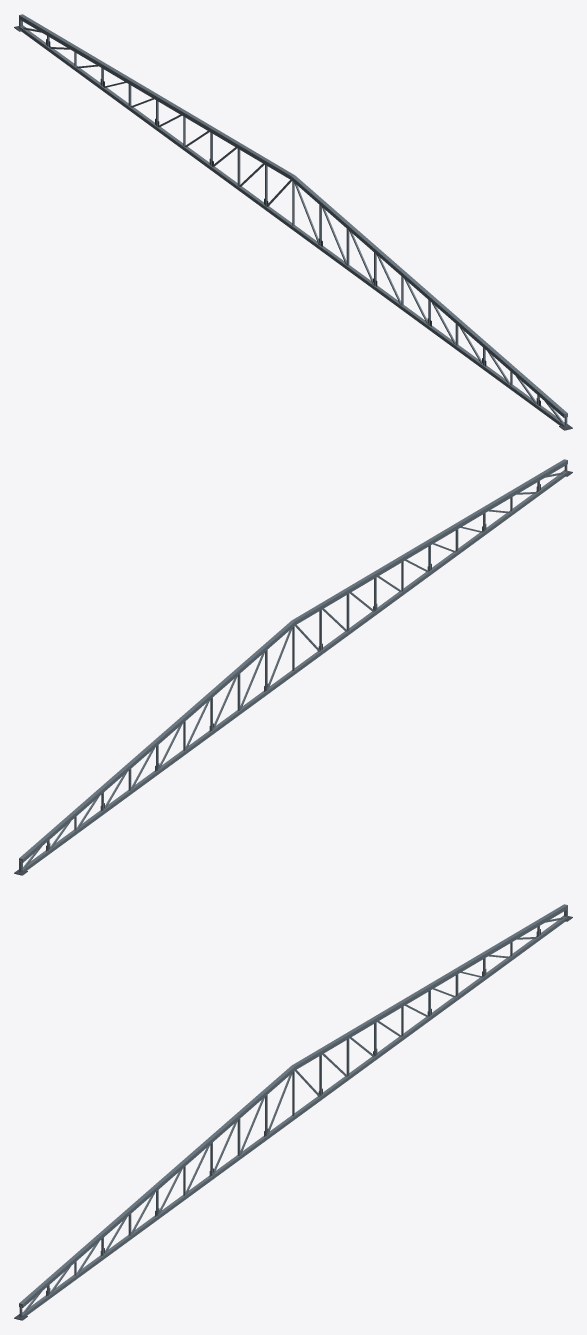
The model's file is tesoura_40m.glb.
3 renders of one model, top to bottom at view 1: azimuth 30°, elevation 25°; view 2: azimuth 150°, elevation 25°; view 3: azimuth 330°, elevation 25°, orthographic.
Size of the model in its own units: 0.36 by 2.15 by 40.4.
